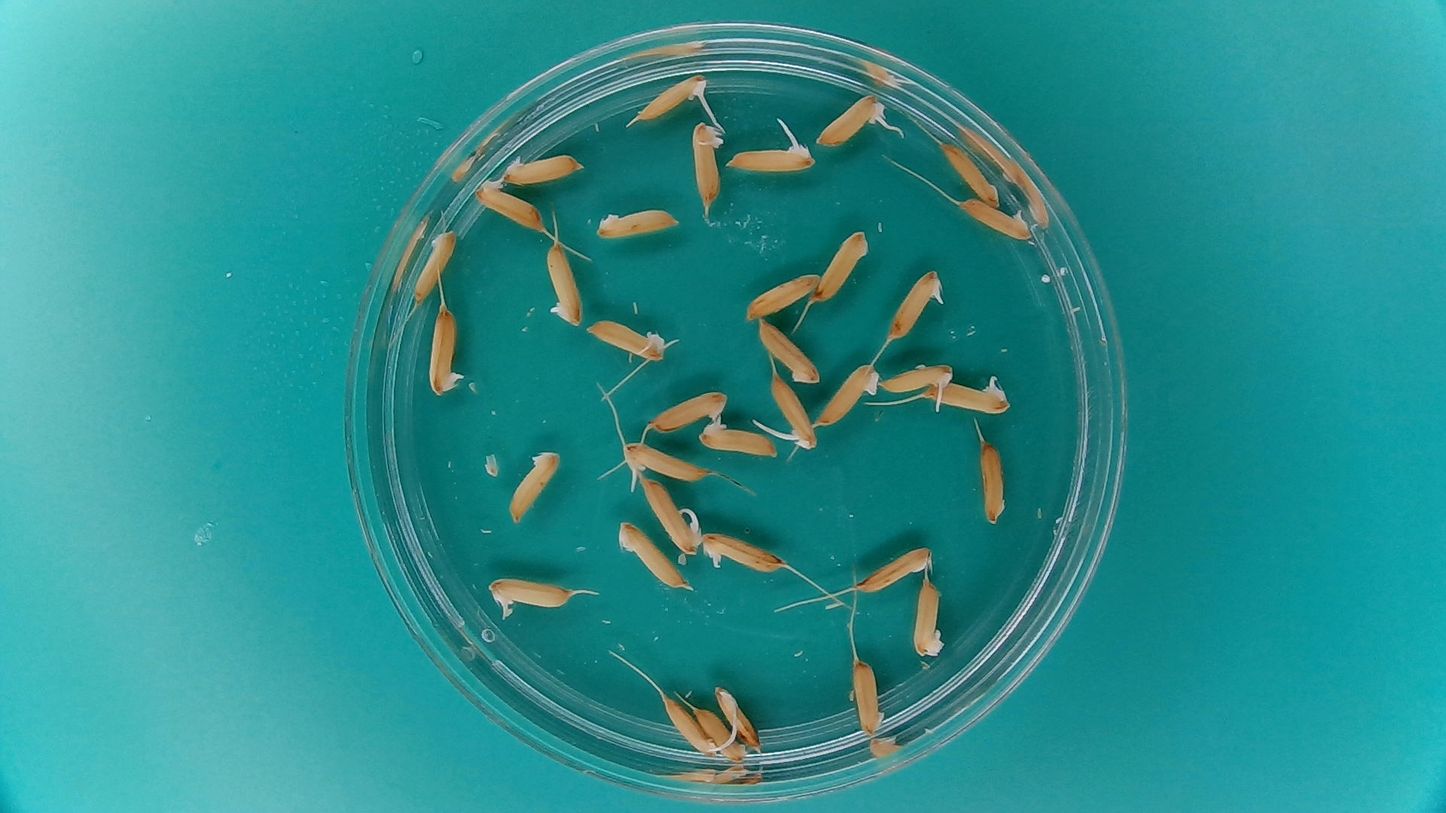no: (614, 517, 693, 590), (505, 444, 563, 526), (755, 315, 822, 385), (817, 360, 883, 430), (813, 227, 868, 305), (645, 385, 732, 434), (938, 140, 1001, 207), (742, 269, 821, 321), (583, 315, 670, 362), (856, 542, 936, 593), (658, 691, 718, 758), (411, 224, 459, 306), (688, 115, 727, 210), (592, 202, 682, 242), (502, 148, 588, 185), (693, 707, 746, 765), (910, 574, 945, 659), (852, 656, 886, 738), (978, 439, 1010, 525)
yes: (639, 473, 701, 556), (886, 264, 945, 341), (471, 176, 548, 232), (616, 438, 709, 484), (768, 370, 818, 452), (425, 299, 468, 394), (700, 531, 787, 575), (541, 241, 585, 328), (630, 72, 708, 121), (814, 94, 883, 148), (694, 416, 778, 459), (486, 574, 578, 613), (958, 196, 1033, 241), (934, 372, 1012, 415), (715, 684, 762, 751), (879, 360, 956, 397), (727, 144, 817, 175)
